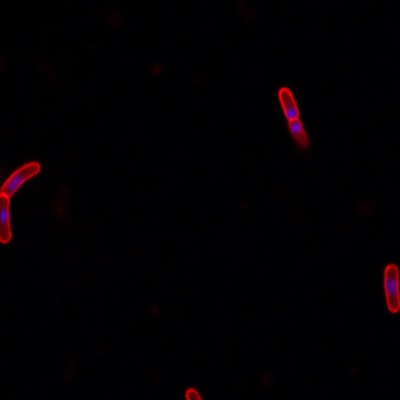Nalidixate: (381, 261, 398, 315)
Oblique: (275, 86, 310, 152)
